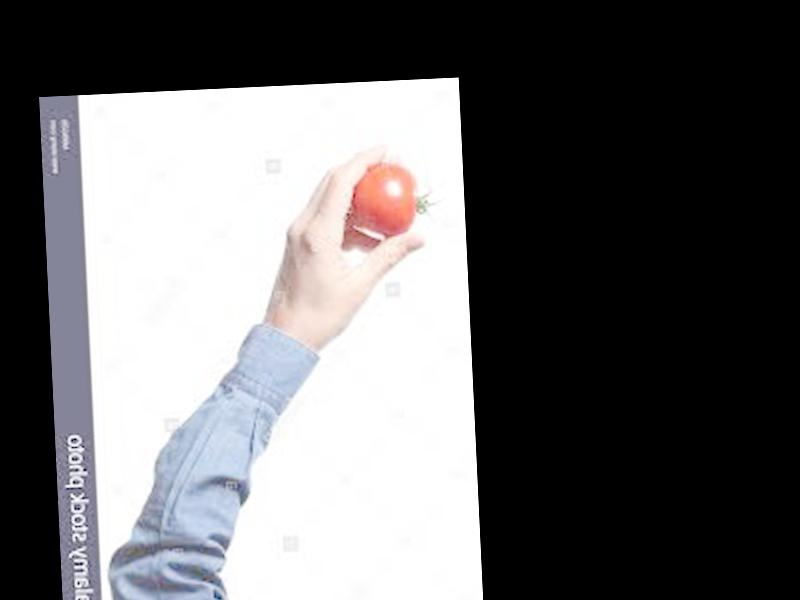Tomato: (352, 160, 417, 235)
